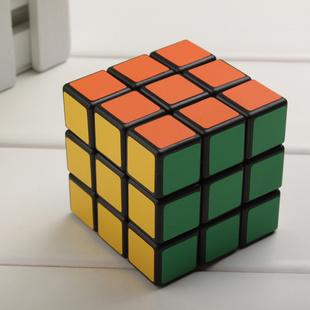cube: (57, 35, 291, 290)
